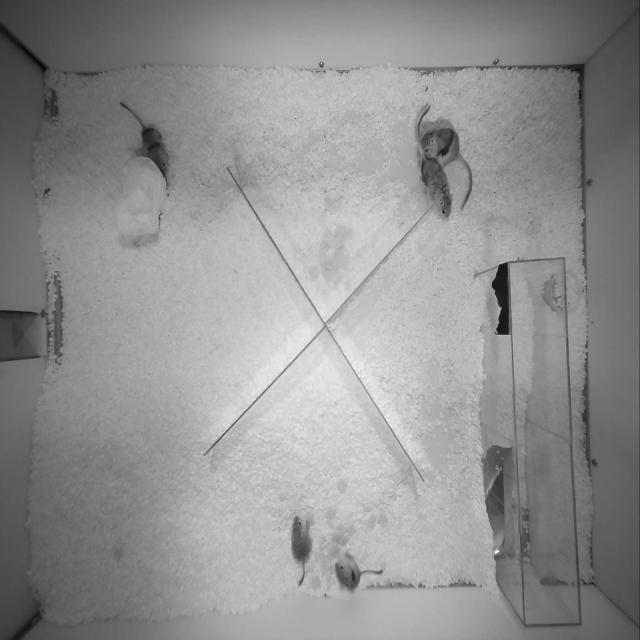adult_back: (416, 106, 452, 215)
adult_front: (423, 126, 472, 207)
pup_fluffy: (291, 515, 312, 586)
pup_h_stripe: (120, 101, 168, 179)
pup_spotted: (334, 550, 383, 591)
